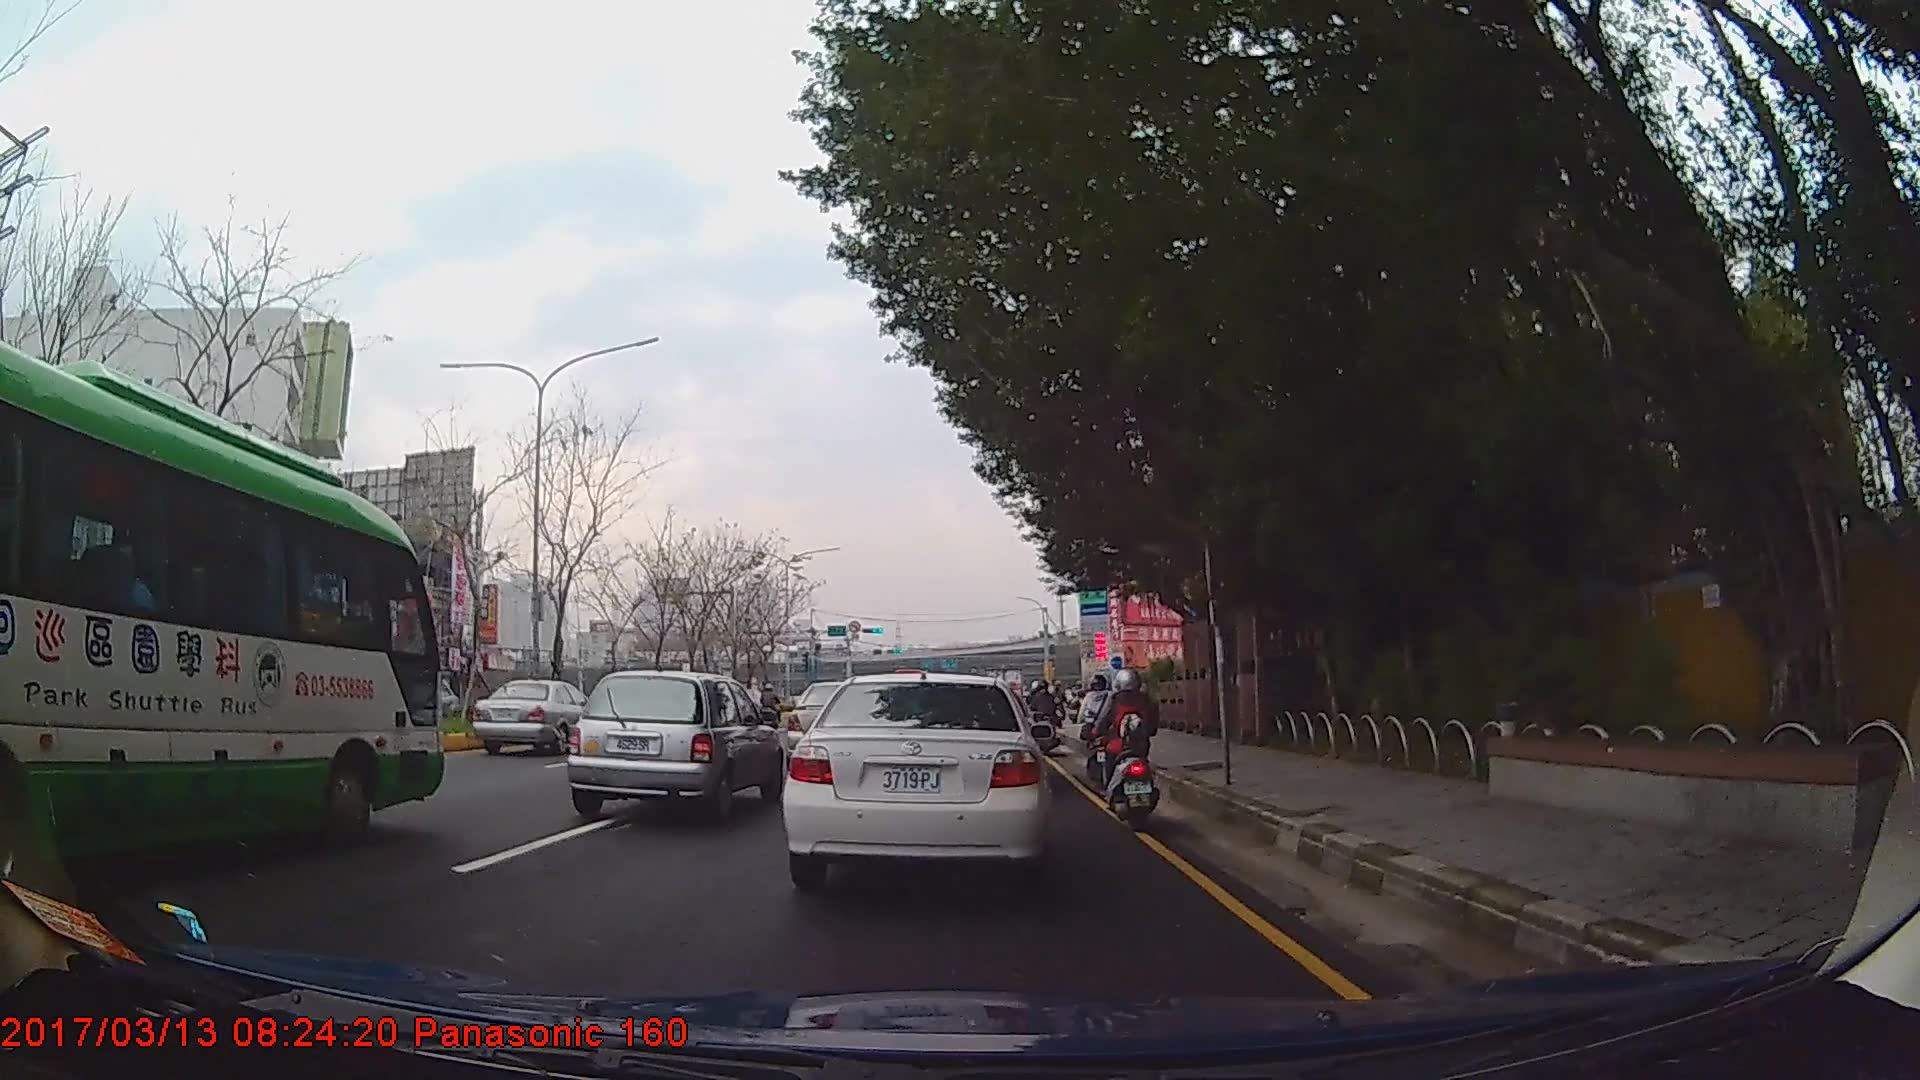rider: (1104, 661, 1164, 820), (1077, 674, 1122, 791), (1033, 676, 1059, 736)
vehicle: (0, 335, 443, 888), (780, 669, 1049, 888), (565, 666, 785, 820), (473, 675, 598, 752)
